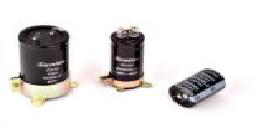Electrolytic Capacitor: (12, 21, 75, 109), (105, 24, 154, 98), (162, 68, 238, 113)
